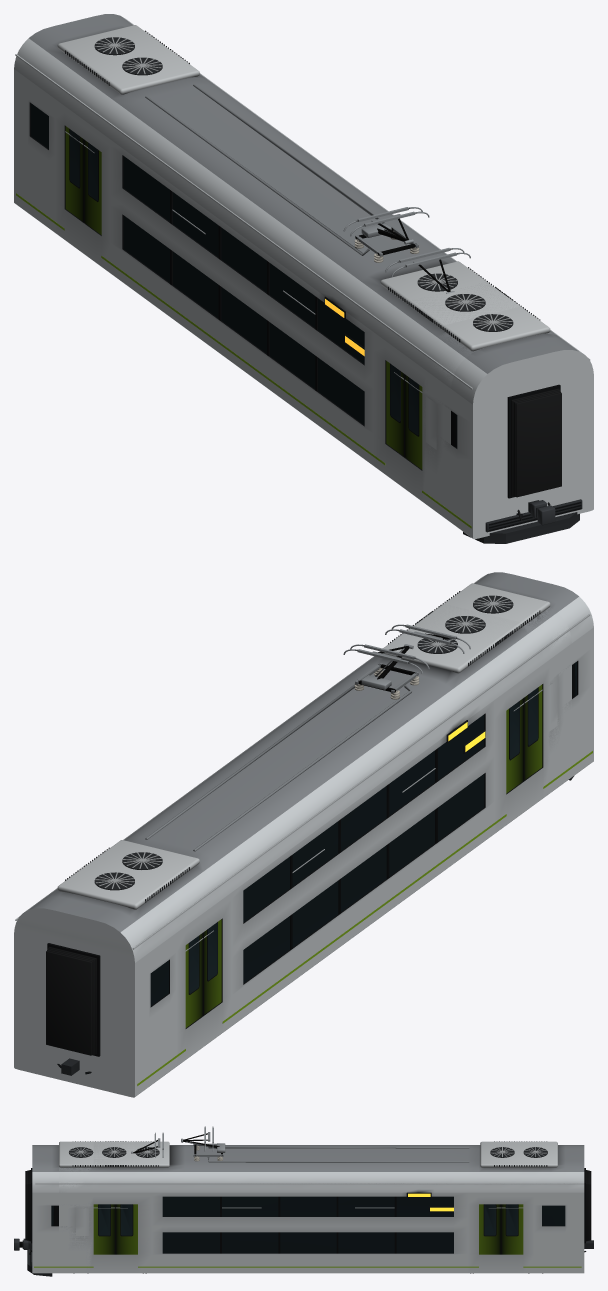
Rendered from railstock.glb.
The picture shows the model from 3 angles, top to bottom: view 1: azimuth 30°, elevation 25°; view 2: azimuth 150°, elevation 25°; view 3: azimuth 270°, elevation 25°; orthographic projection. The views are drawn at different scales.
Visible parts, largest first — view 1: Waratah_Head, Waratah_Mid, Waratah_Pan, Commuter_Pan; view 2: Waratah_Head, Waratah_Mid, Waratah_Pan; view 3: Waratah_Head, Waratah_Mid, Waratah_Pan, Commuter_Head.
Boxes of the visible parts, <box> form: Waratah_Head: <box>14,14,582,543</box>; Waratah_Mid: <box>14,56,593,539</box>; Waratah_Pan: <box>145,84,429,262</box>; Commuter_Pan: <box>385,248,470,293</box>; Waratah_Head: <box>14,603,575,1097</box>; Waratah_Mid: <box>14,572,593,1059</box>; Waratah_Pan: <box>145,644,429,851</box>; Waratah_Head: <box>14,1141,593,1276</box>; Waratah_Mid: <box>22,1141,584,1273</box>; Waratah_Pan: <box>181,1126,469,1162</box>; Commuter_Head: <box>23,1206,588,1273</box>.
Size of what is drawn, in the model's own units: 3.09 by 5.24 by 20.92.
